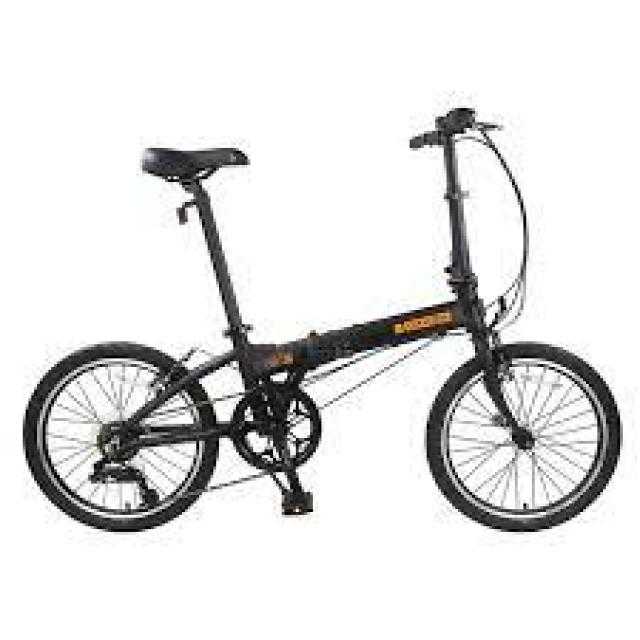folding-bike: (20, 107, 624, 534)
